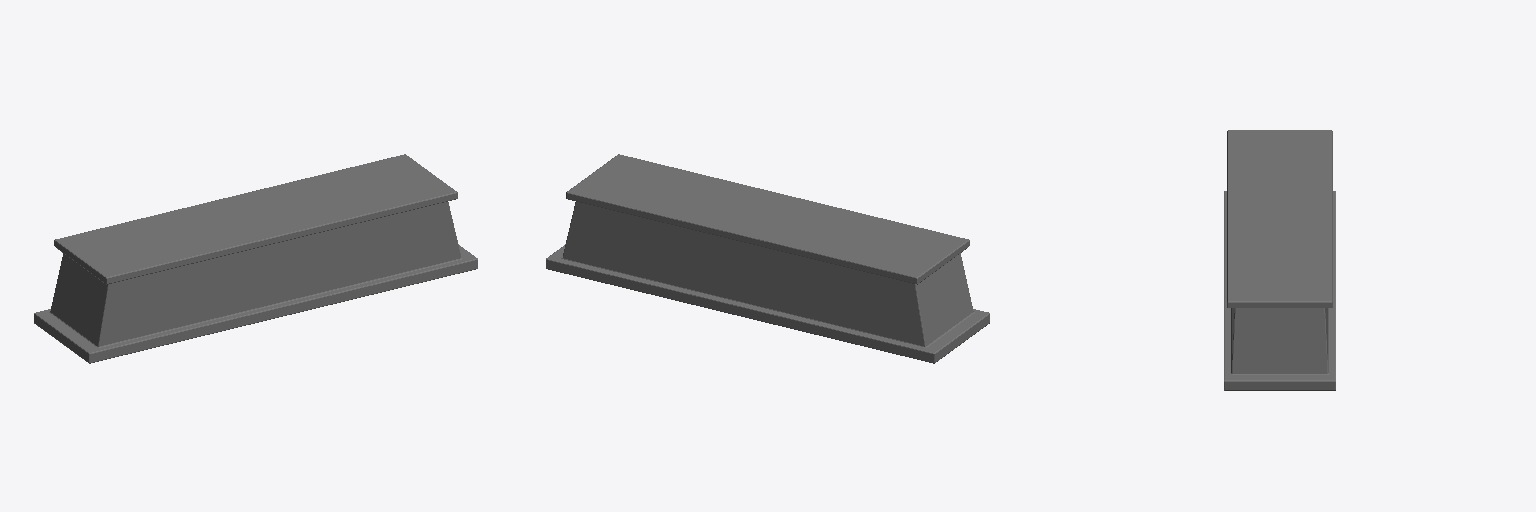
Rendered from Lampu.obj.
3 renders of one model, left to right at view 1: azimuth 30°, elevation 25°; view 2: azimuth 150°, elevation 25°; view 3: azimuth 270°, elevation 25°, orthographic.
Visible parts, largest first — view 1: pCube6; view 2: pCube6; view 3: pCube6.
Boxes of the visible parts, box(x1,y1,x2,y2) form: pCube6: box(34, 154, 477, 363); pCube6: box(546, 154, 989, 363); pCube6: box(1224, 130, 1335, 390).
Size of the model in its own units: 4.59 by 0.9064 by 1.15.